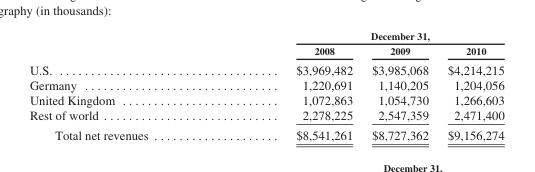table: (28, 29, 503, 141)
table column: (28, 29, 221, 141), (221, 29, 361, 141), (361, 29, 437, 141), (437, 29, 503, 141)
table column header: (28, 29, 503, 59)
table row: (28, 59, 503, 77), (28, 106, 503, 124), (28, 42, 503, 59), (28, 124, 503, 141), (28, 91, 503, 106), (28, 77, 503, 91), (28, 29, 503, 42)
table spanning cell: (221, 29, 503, 42)
